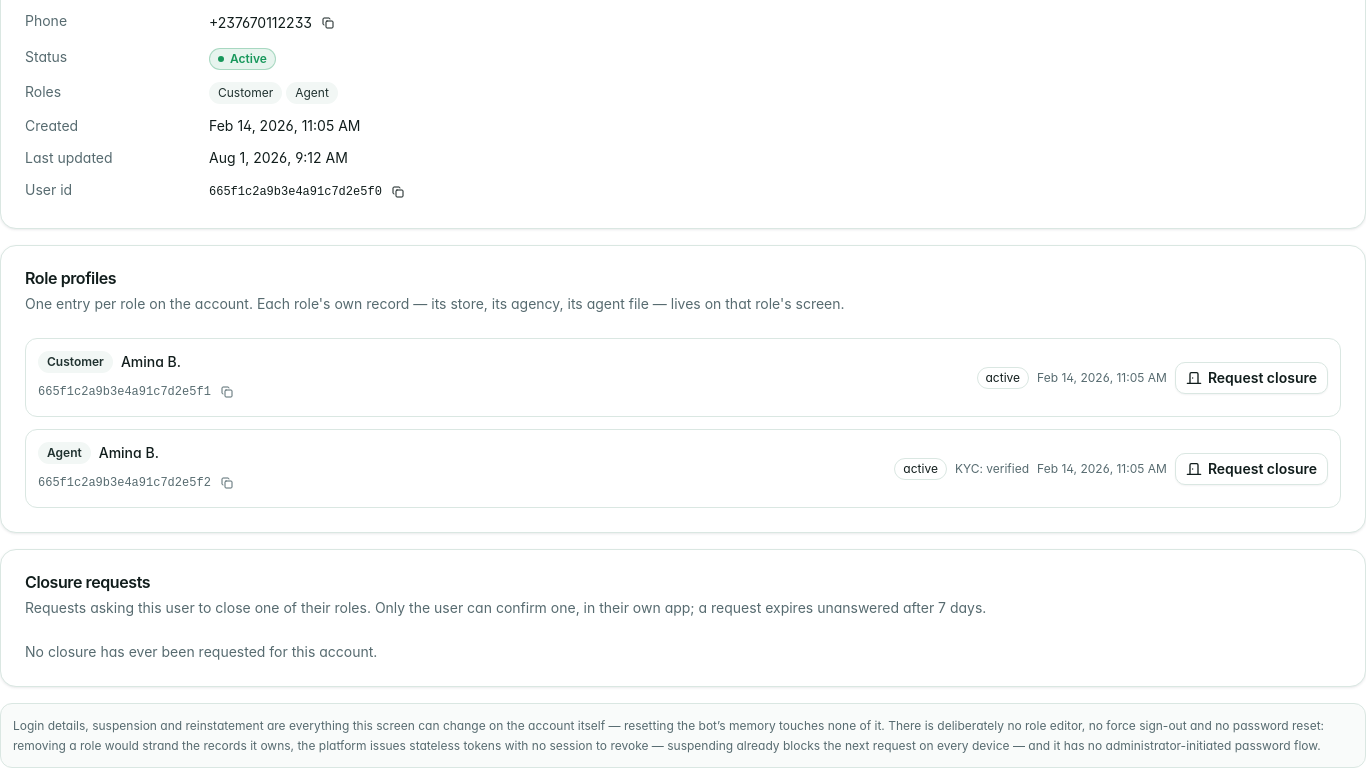
Test case: refusals, by details.platformCode › still says it is blocked when the blockers did not arrive
(page scrolled)
Click the button "Request closure" in the row of "verified" at x=1251, y=468, box top-left (1175, 452), bottom-right (1328, 484)
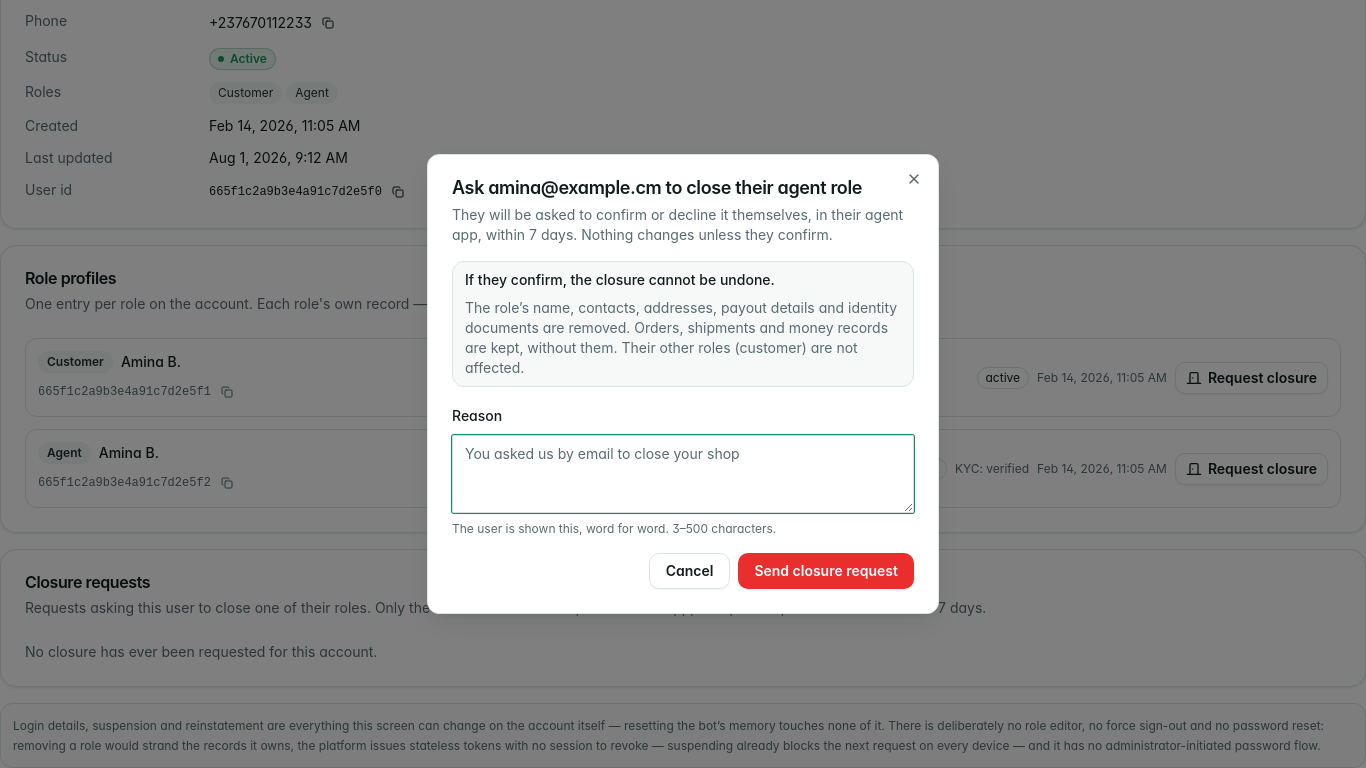
Type "Owner asked us to" into the text box labelled "Reason" at x=683, y=474, box top-left (452, 435), bottom-right (914, 513)
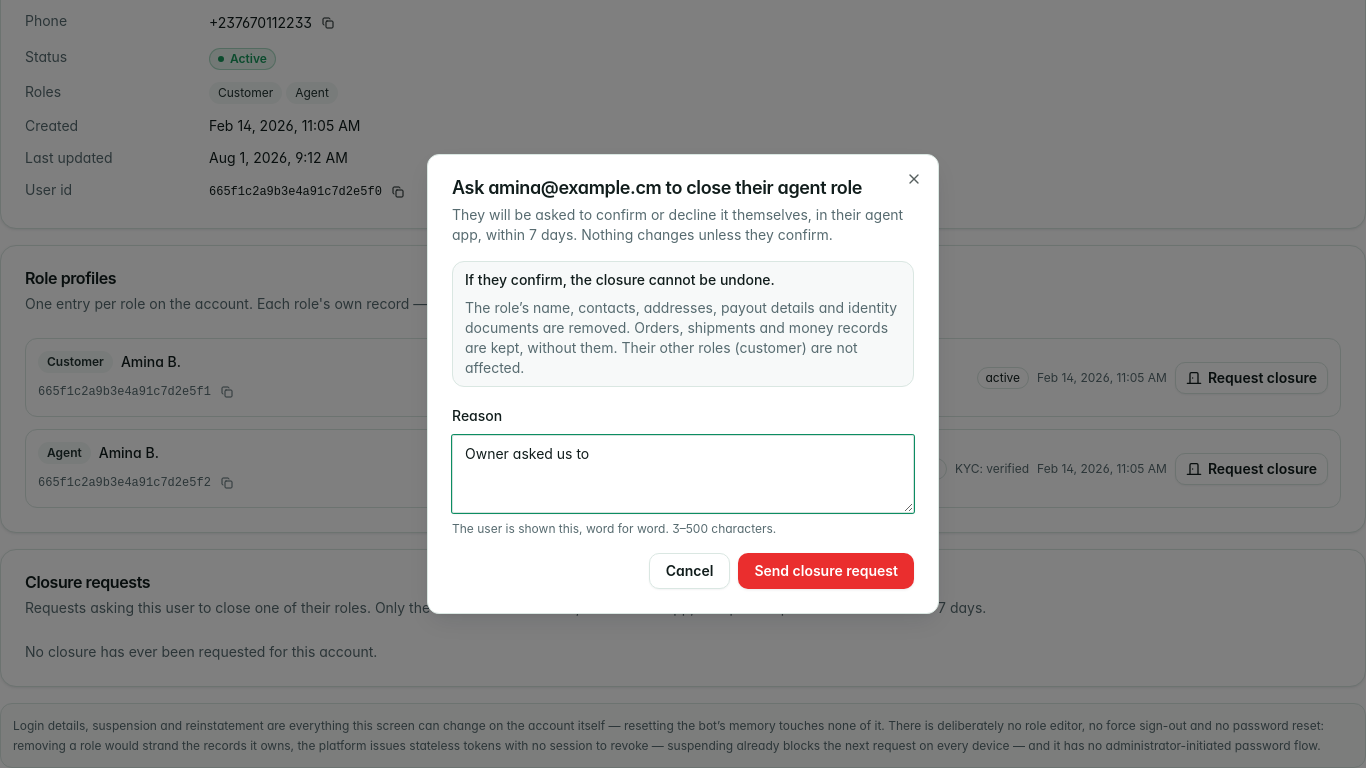
Click the button "Send closure request" at x=826, y=571, box top-left (738, 553), bottom-right (914, 589)
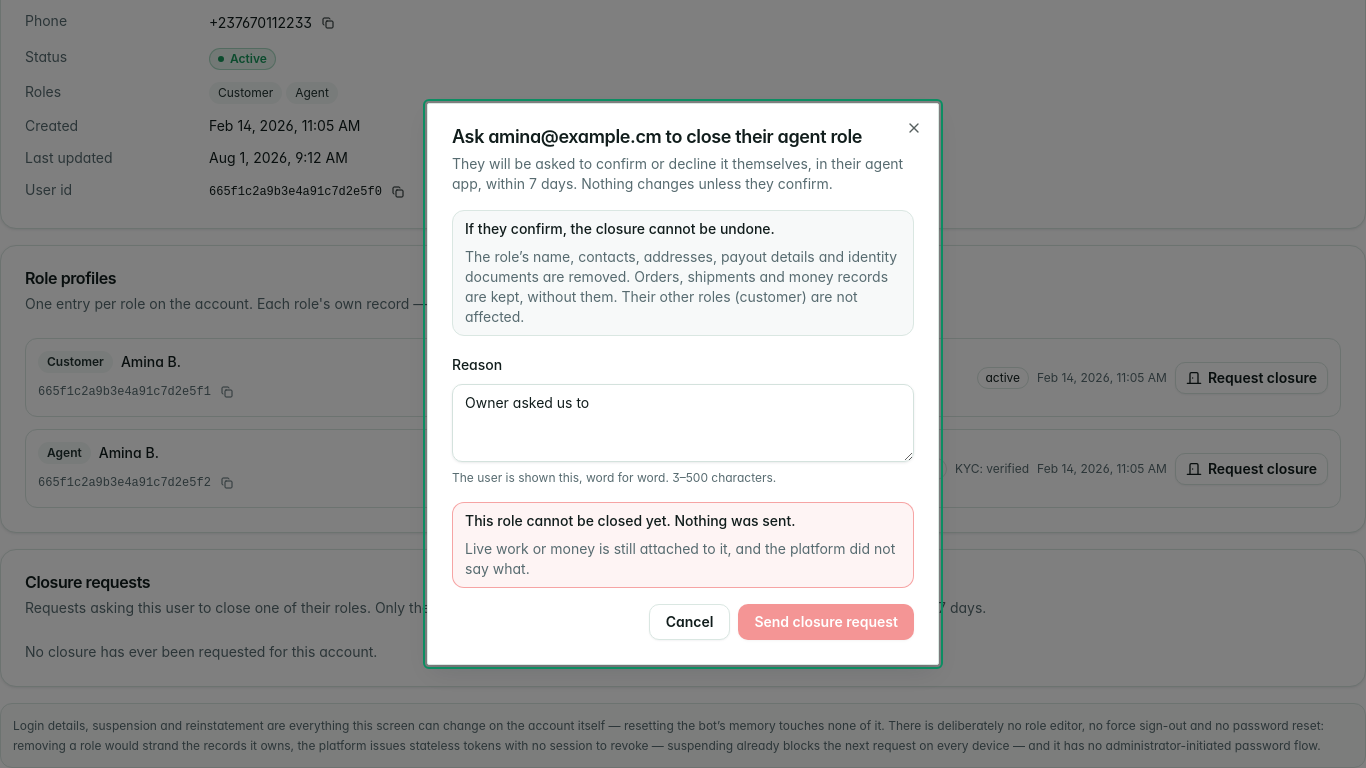
Expected: the text "did not say what" is shown, top-left (465, 540), bottom-right (895, 577)
